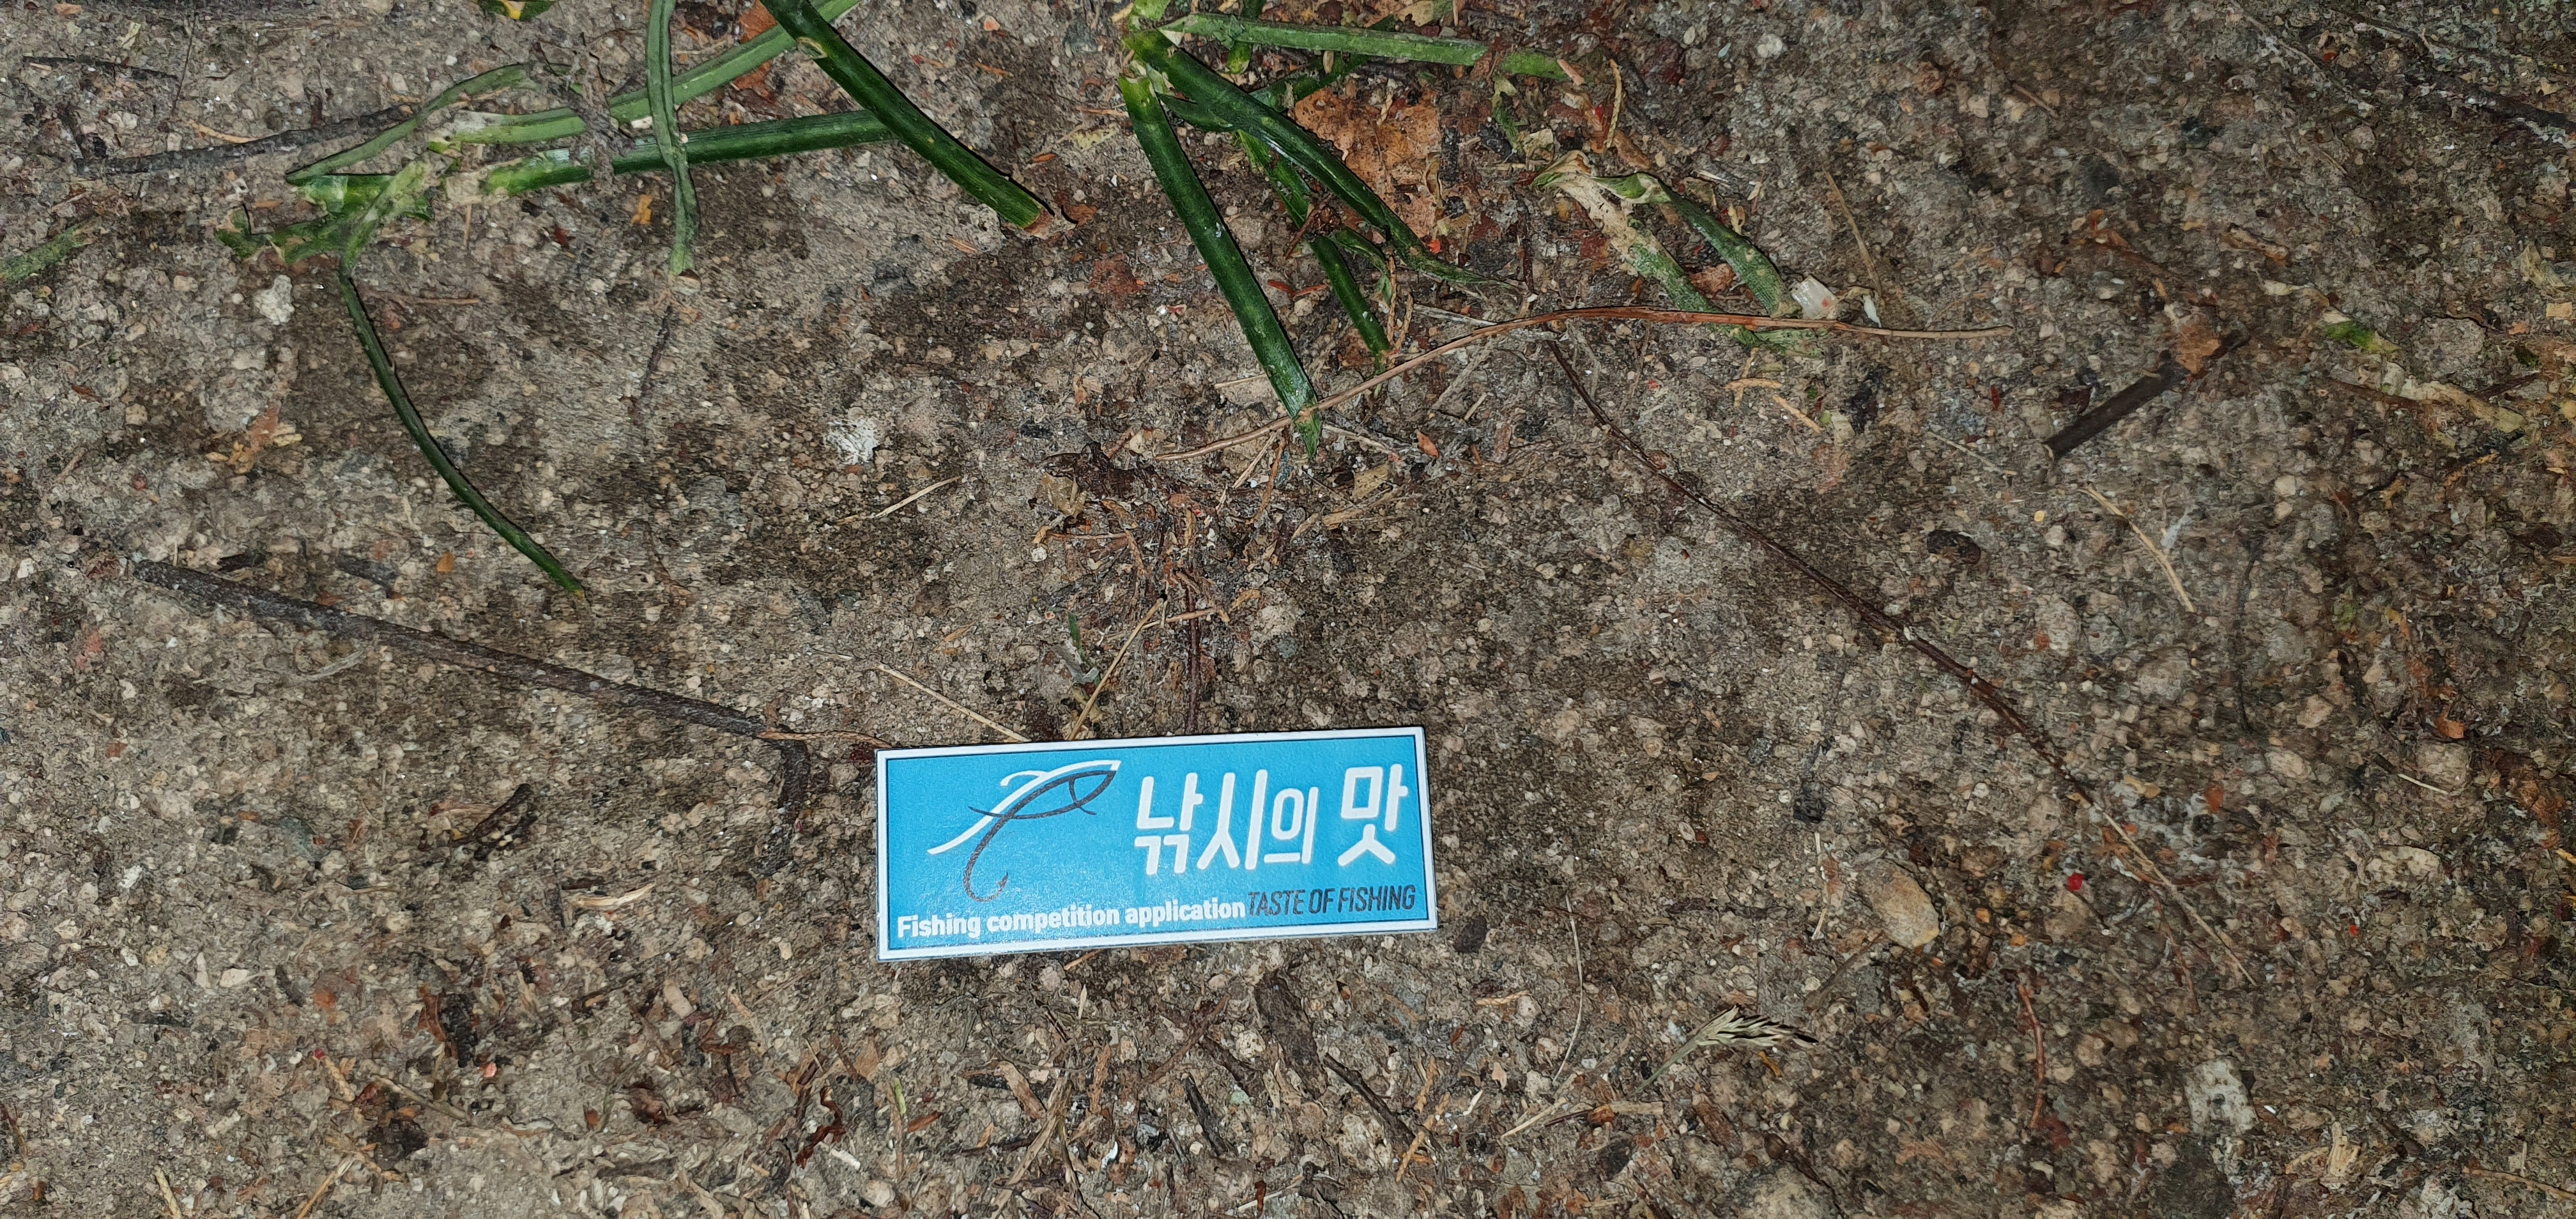tag: (876, 731, 1437, 940)
